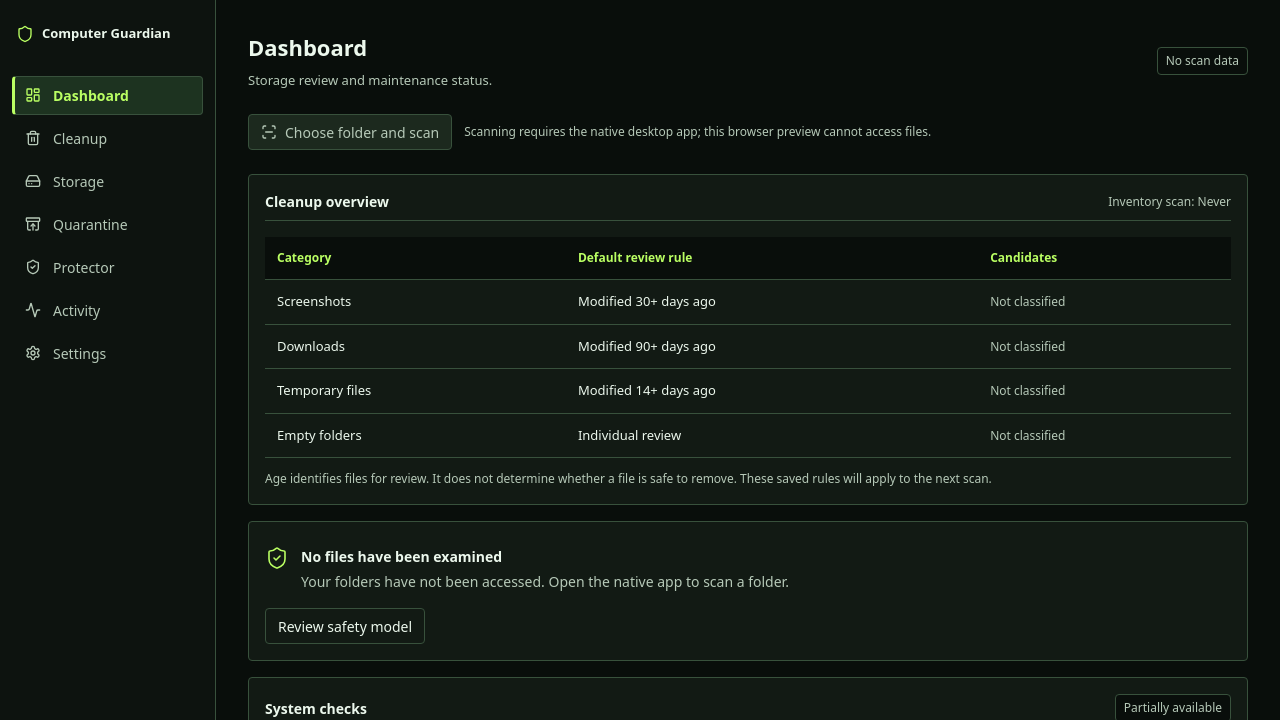
Test: application shell › explains that storage measurements require the native desktop app
The image size is (1280, 720).
Click the button "Storage". click: (108, 181)
box: [12,162,203,200]
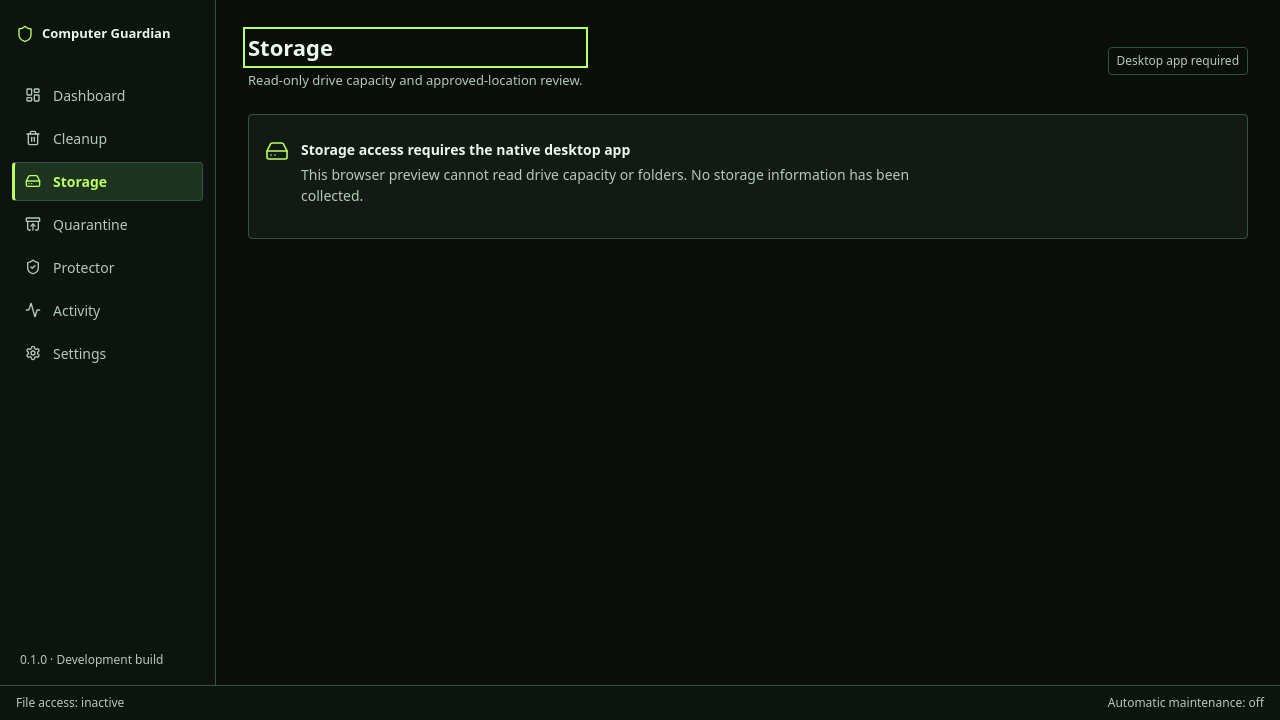
expect the heading "Storage access requires the native desktop app" is shown: met, box [301,140,630,159]
expect the text "No storage information has been collected" is shown: met, box [301,165,909,205]
